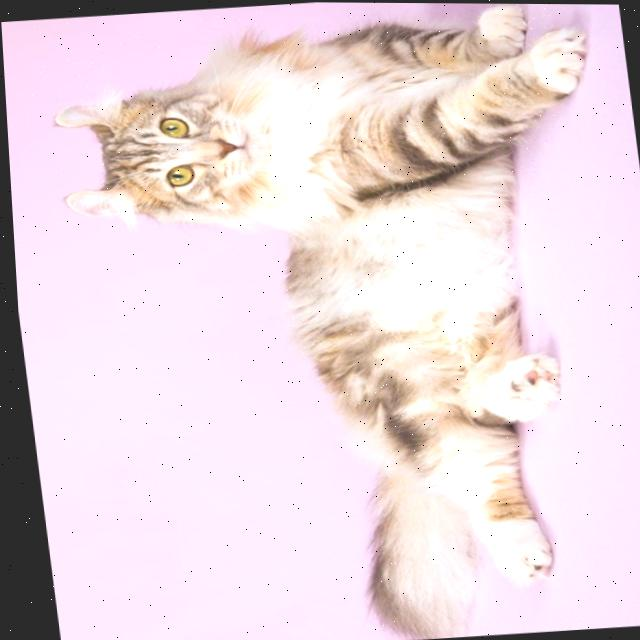American Curl: (32, 0, 640, 640)
